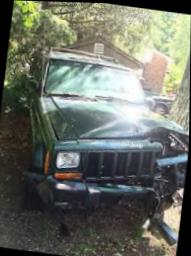Bonnet: (42, 94, 190, 140)
Bumper: (26, 172, 185, 230)
Light: (154, 139, 189, 178)
